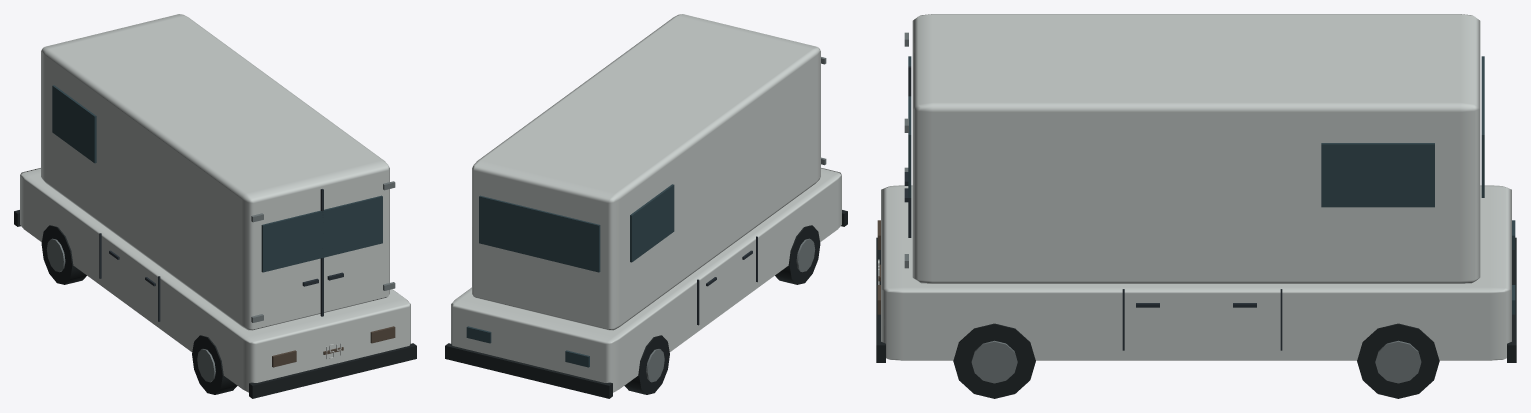
The model's file is van-2.glb.
The picture shows the model from 3 angles, left to right: view 1: azimuth 30°, elevation 25°; view 2: azimuth 150°, elevation 25°; view 3: azimuth 270°, elevation 25°; orthographic projection. The views are drawn at different scales.
Visible parts, largest first — view 1: van/1/KR-230-2; view 2: van/1/KR-230-2; view 3: van/1/KR-230-2.
Part boxes in pixels (x1,y1,x2,y2): van/1/KR-230-2: (14, 14, 416, 398); van/1/KR-230-2: (445, 14, 847, 398); van/1/KR-230-2: (876, 14, 1516, 398).
Size of the model in its own units: 2.17 by 2.6 by 5.28.
